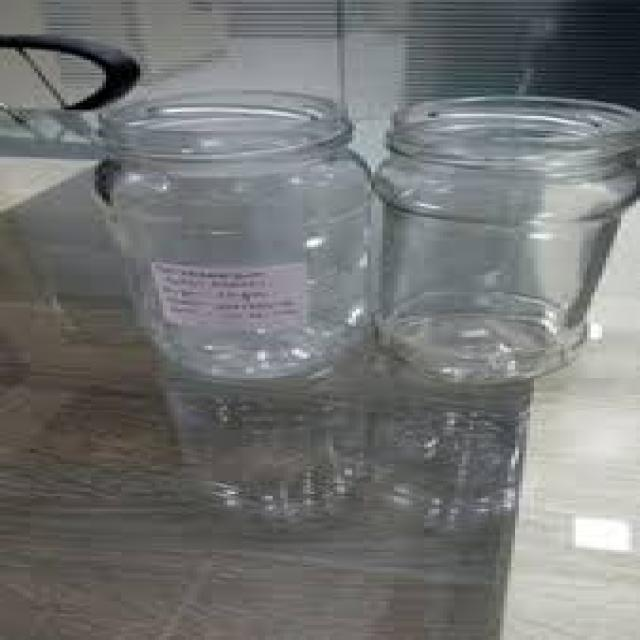glass: (87, 88, 367, 372), (375, 94, 632, 378)
